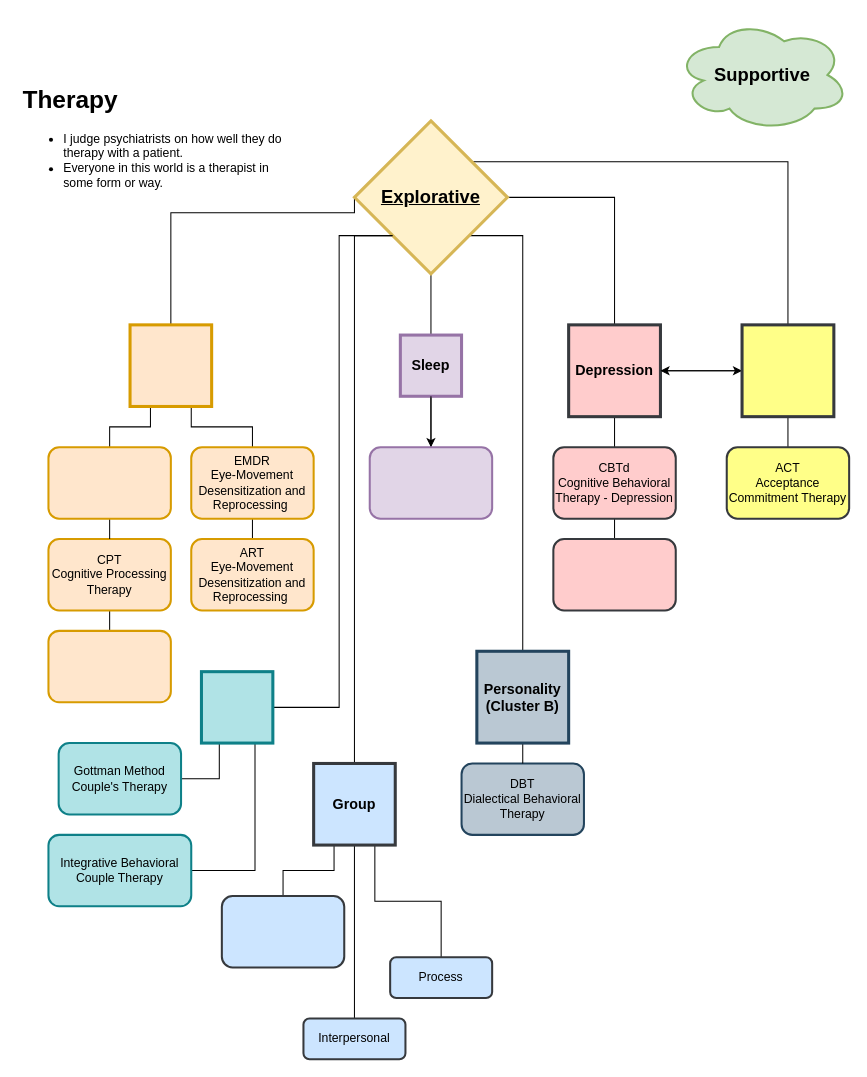
Image size: 867x1077. Some labels were removed from this diagram. The centre of each missing label's shape, as x and y in pixels:
AA Alcoholics Anonymous: [282,931]
Anxiety: [787,370]
BA? Behavioral Activation: [614,574]
CBTi Cognitive Behavioral Therapy - Insomnia: [430,482]
Family: [236,707]
PE Prolonged Exposure: [109,482]
Trauma Informed Therapy: [170,365]
WET Written Exposure Therapy: [109,666]
